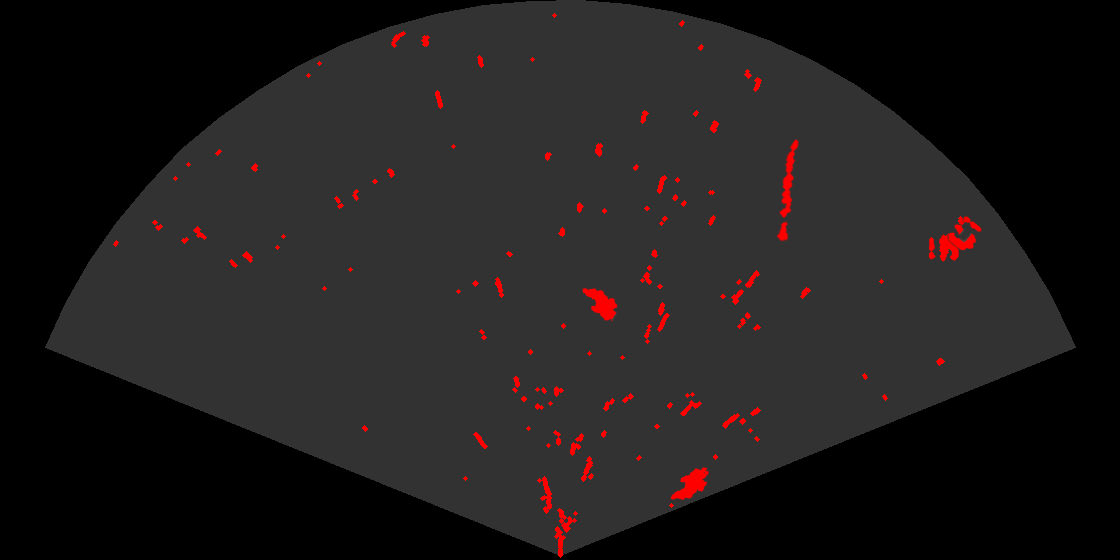AUV: (669, 466, 710, 502), (581, 286, 619, 323)
ball: (947, 215, 983, 252), (927, 232, 960, 263)
chain: (775, 138, 800, 242)
